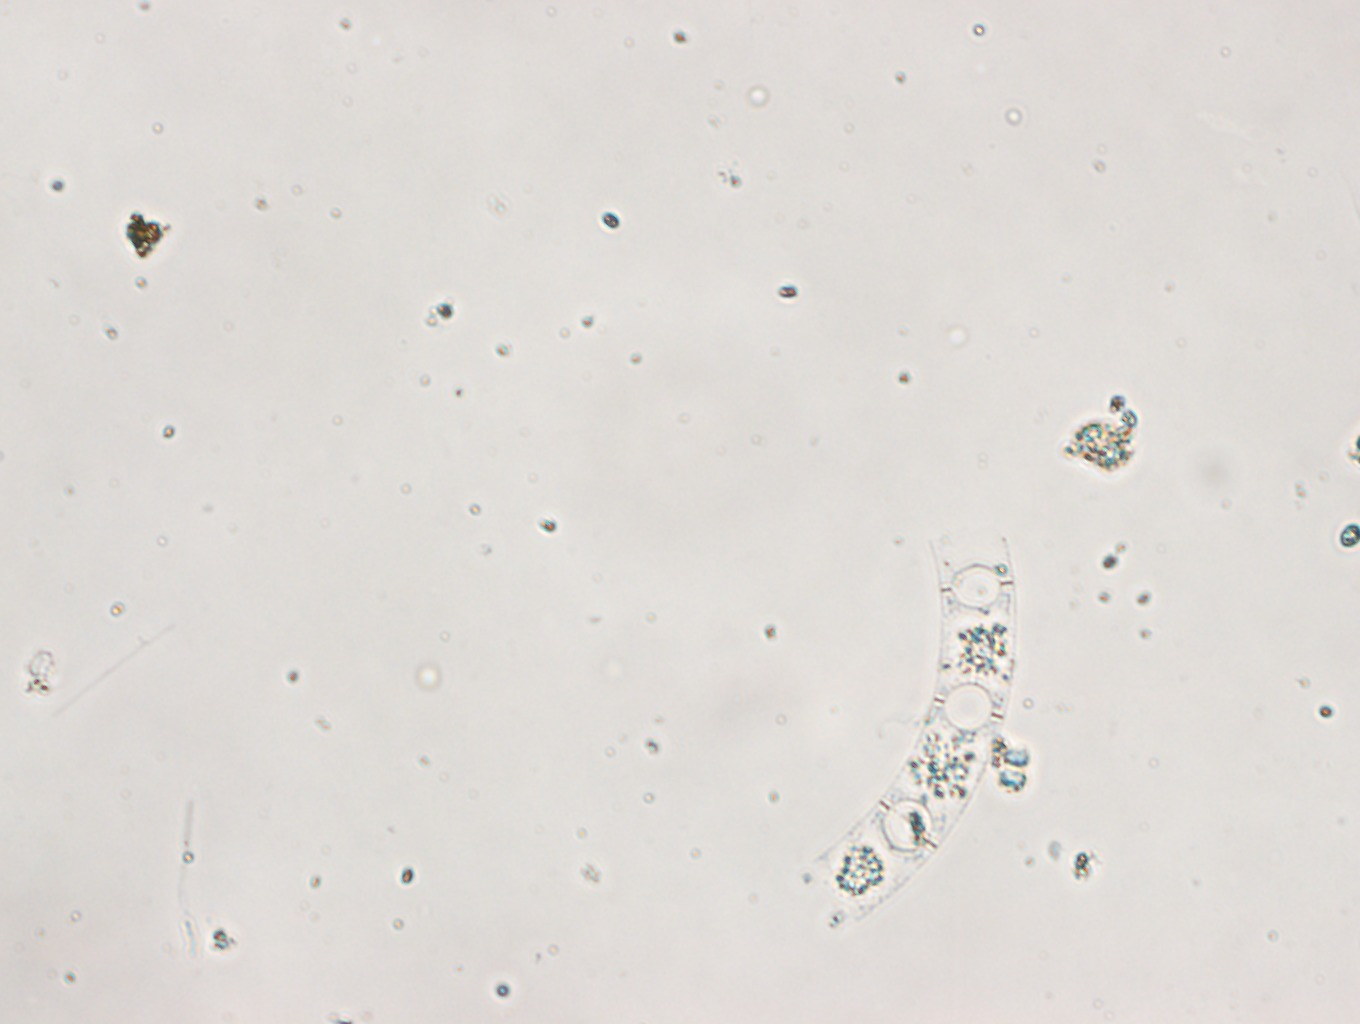eucampia: (817, 536, 1016, 923)
